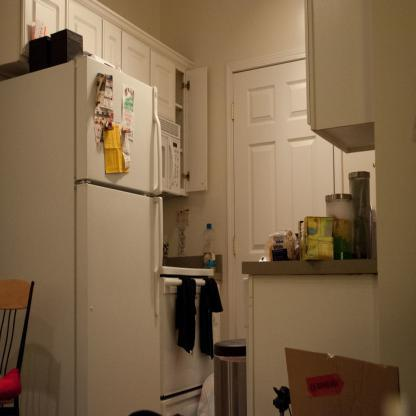door: (231, 69, 340, 335)
hinged: (232, 236, 237, 256), (230, 102, 235, 120)
